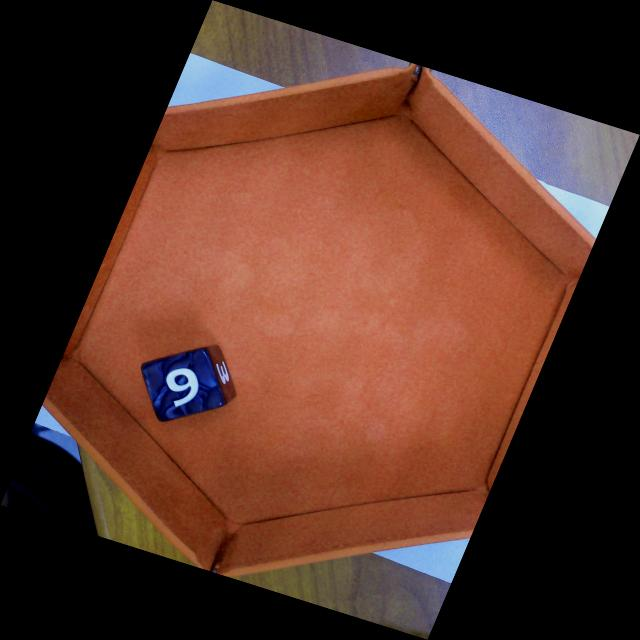dice: (140, 350, 226, 422)
